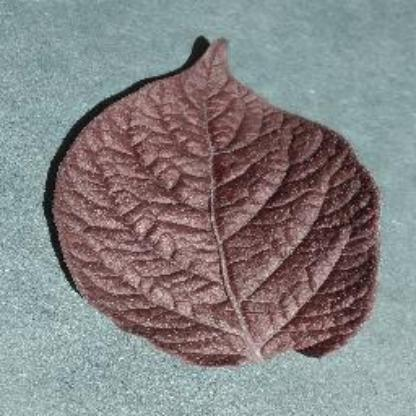Healthy-plant: (33, 32, 387, 378)
